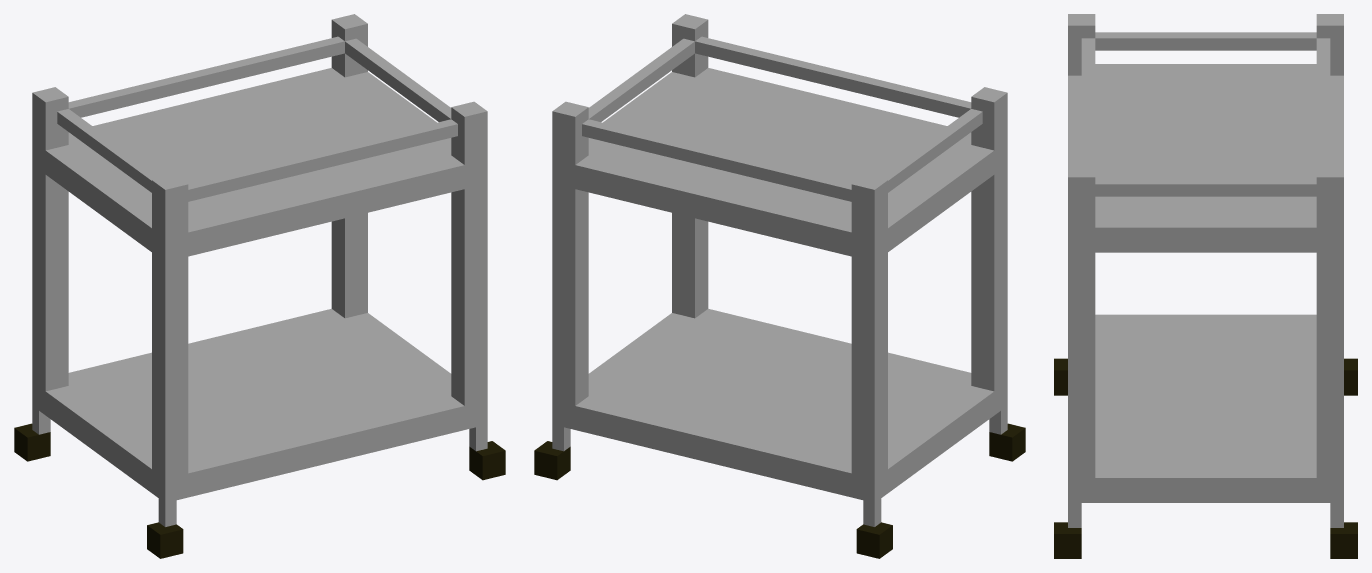
The model's file is Operating room Equip5.fbx.
3 views of the same model, side by side, from view 1: azimuth 30°, elevation 25°; view 2: azimuth 150°, elevation 25°; view 3: azimuth 270°, elevation 25° (orthographic). The views are drawn at different scales.
Parts seen in each view (by area): view 1: Operating room Equip5; view 2: Operating room Equip5; view 3: Operating room Equip5.
Part boxes in pixels (x1=…): Operating room Equip5: x1=14, y1=14, x2=505, y2=558; Operating room Equip5: x1=534, y1=14, x2=1025, y2=558; Operating room Equip5: x1=1054, y1=14, x2=1357, y2=558.
Bounding box in the file's own units: 3 × 3 × 2.2.
